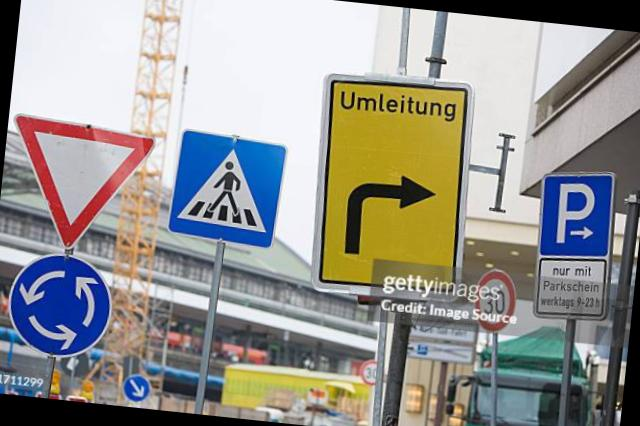crosswalk-sign: (166, 129, 288, 252)
